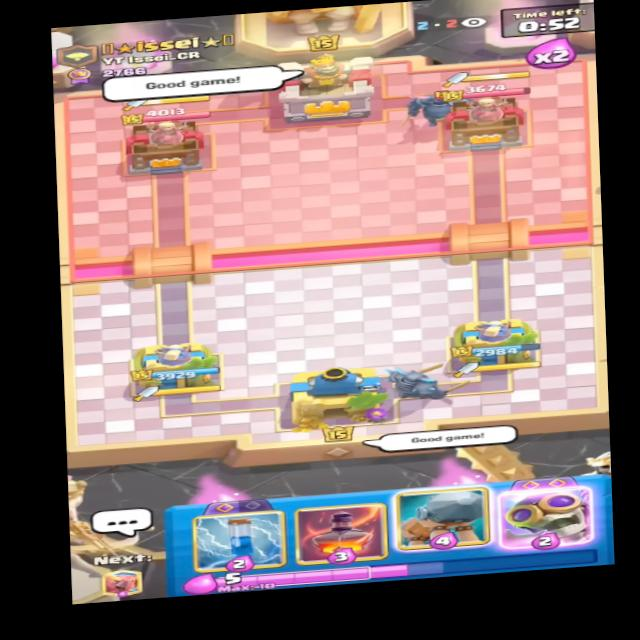Pekka: (403, 80, 478, 127)
